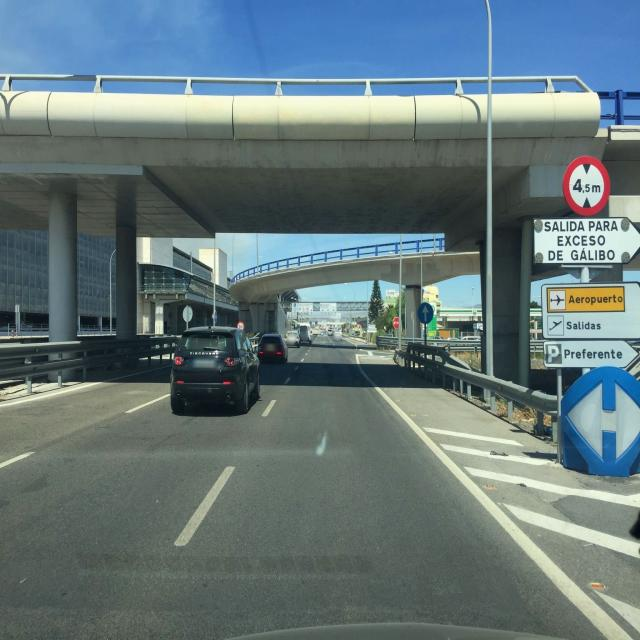car: (172, 330, 262, 420), (257, 332, 289, 363), (296, 324, 312, 344), (285, 329, 301, 348)
